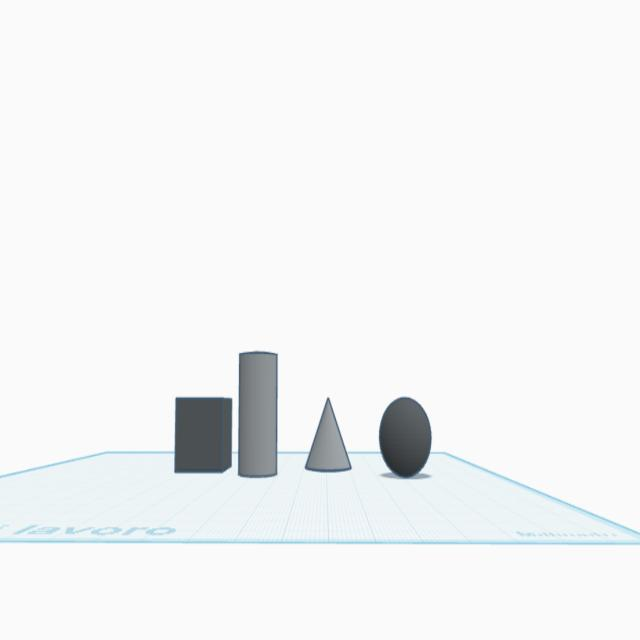cone: (305, 392, 353, 477)
cube: (172, 390, 235, 475)
sphere: (376, 395, 434, 478)
